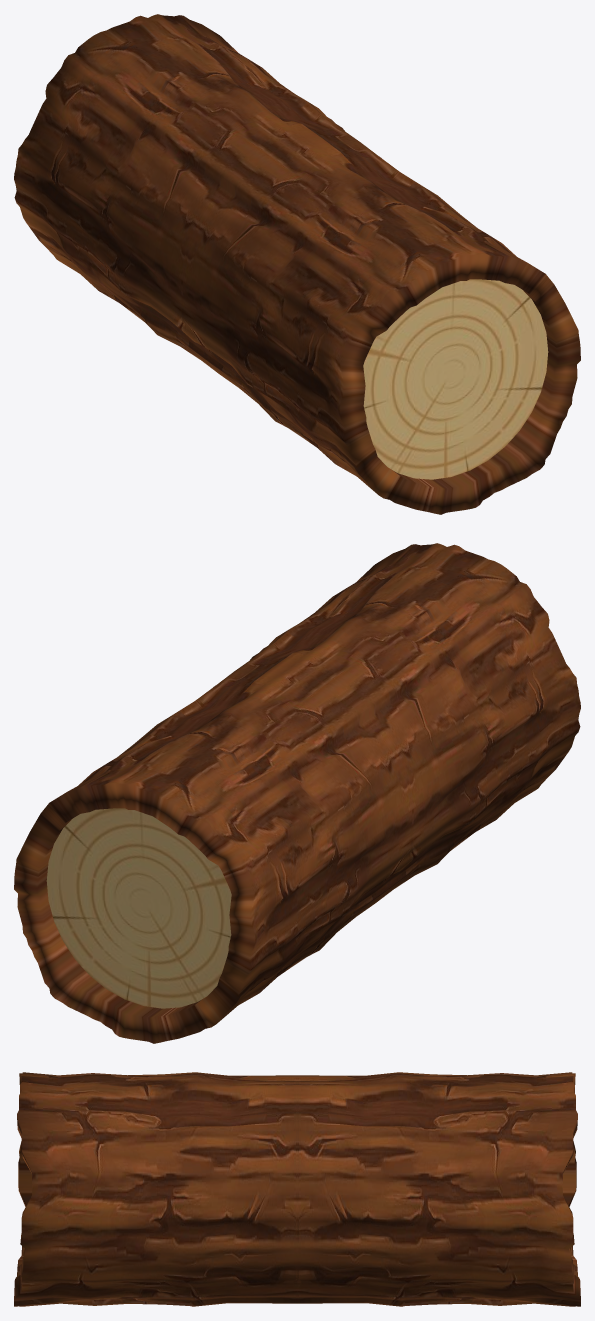
Rendered from log2.fbx.
3 views of the same model, one above another, from view 1: azimuth 30°, elevation 25°; view 2: azimuth 150°, elevation 25°; view 3: azimuth 270°, elevation 25° (orthographic). The views are drawn at different scales.
Parts seen in each view (by area): view 1: 실린더; view 2: 실린더; view 3: 실린더.
Part boxes in pixels (left/top/right/bottom): 실린더: left=14, top=14, right=580, bottom=514; 실린더: left=14, top=543, right=580, bottom=1043; 실린더: left=14, top=1072, right=580, bottom=1306.
Bounding box in the file's own units: 207 × 208 × 499.
2 materials, 2 textured.
